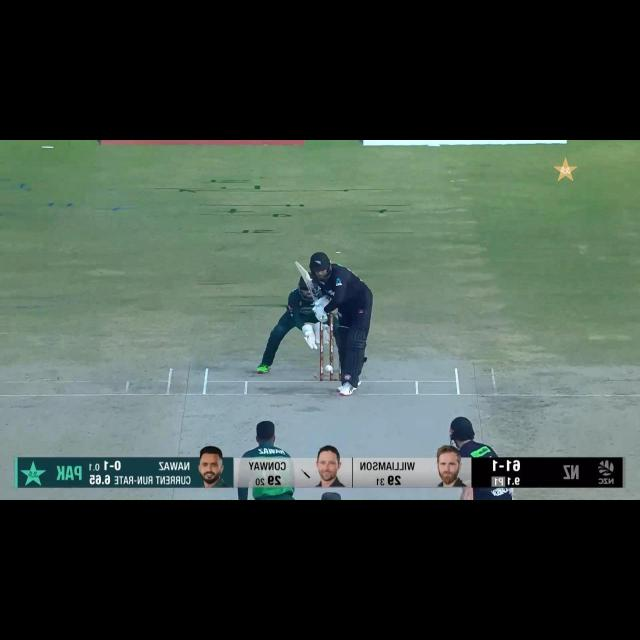bat: (291, 258, 322, 299)
toe: (292, 258, 307, 274)
